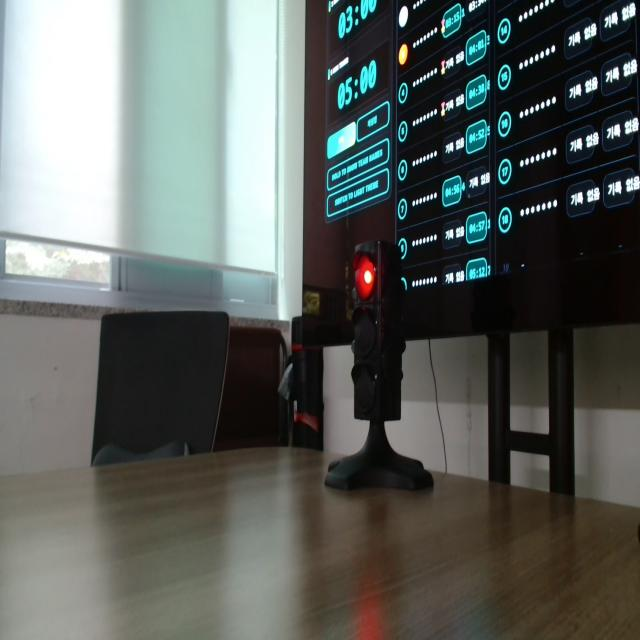red_light: (355, 255, 375, 300)
